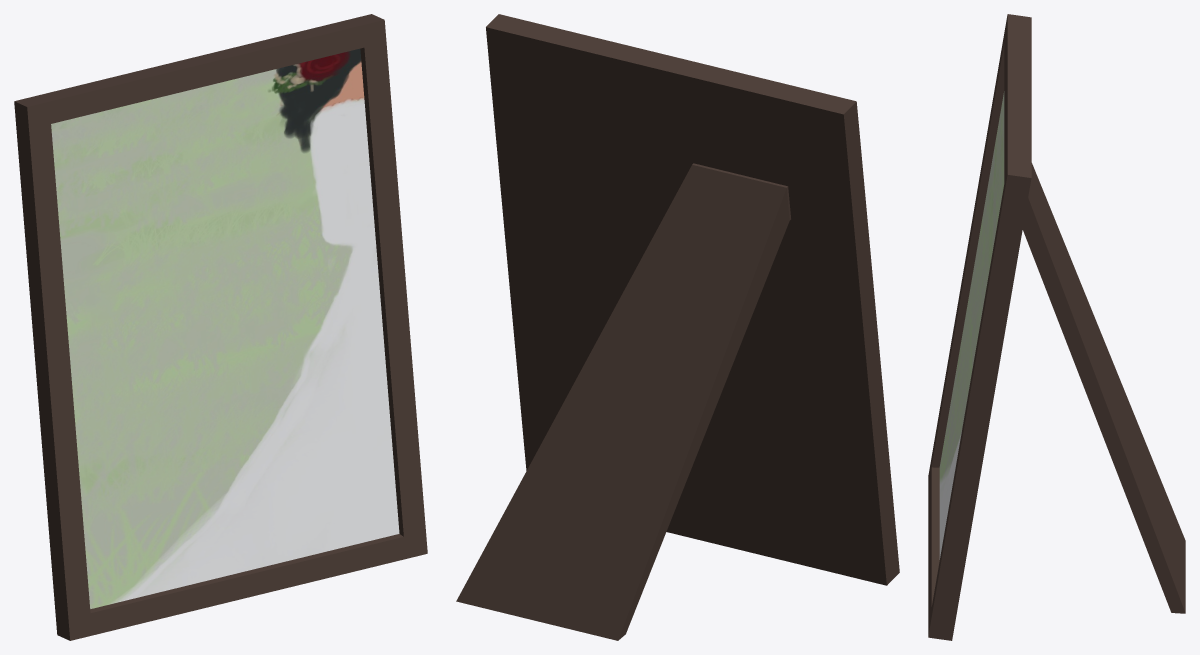
The model's file is Sem_Fotolijstje2_Color.fbx.
The picture shows the model from 3 angles, left to right: view 1: azimuth 30°, elevation 25°; view 2: azimuth 150°, elevation 25°; view 3: azimuth 270°, elevation 25°; orthographic projection. The views are drawn at different scales.
Visible parts, largest first — view 1: pCube3; view 2: pCube3; view 3: pCube3.
Boxes of the visible parts, x1,y1,x2,y2 form: pCube3: (14,14,427,640); pCube3: (456,14,899,640); pCube3: (928,14,1185,640).
Bounding box in the file's own units: 1 × 1.35 × 0.6771.
2 materials, 1 textured.
